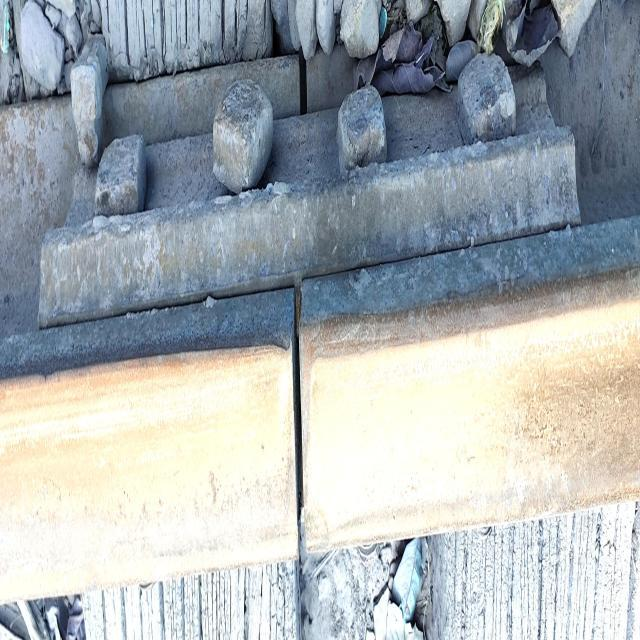Good Joint: (38, 89, 606, 620)
